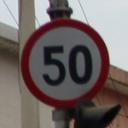speed_limit_50: (21, 20, 110, 108)
